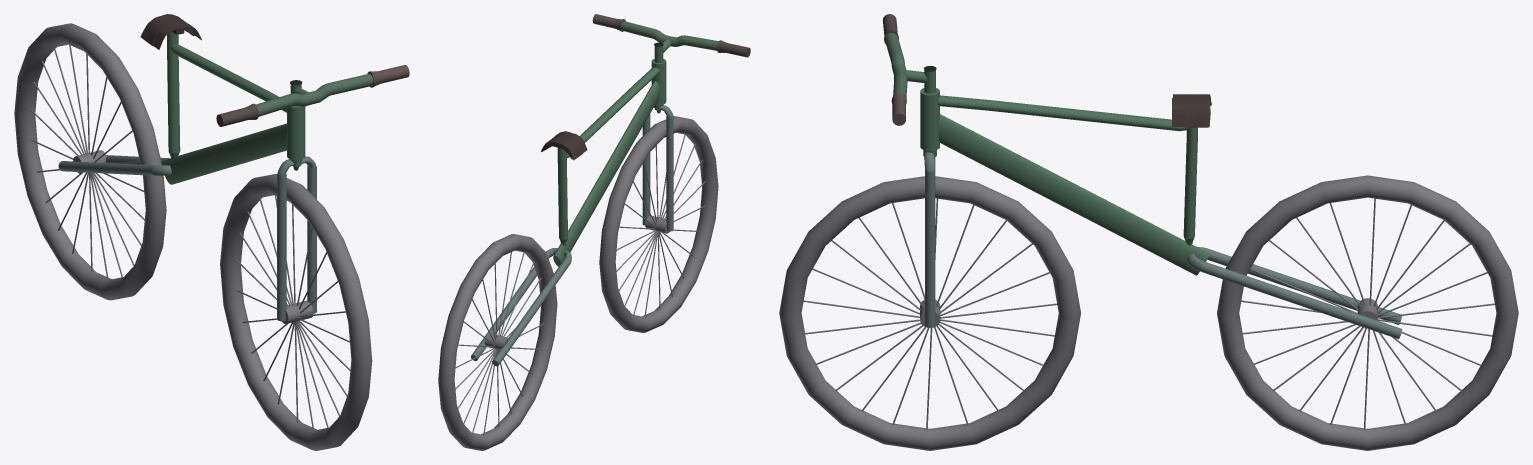
Rendered from Bicycle_2.fbx.
3 views of the same model, side by side, from view 1: azimuth 30°, elevation 25°; view 2: azimuth 150°, elevation 25°; view 3: azimuth 270°, elevation 25° (orthographic). The views are drawn at different scales.
Parts seen in each view (by area): view 1: Bicycle; view 2: Bicycle; view 3: Bicycle.
Boxes of the visible parts, left/top/right/bottom form: Bicycle: left=14, top=14, right=409, bottom=450; Bicycle: left=438, top=14, right=750, bottom=450; Bicycle: left=779, top=14, right=1518, bottom=450.
Bounding box in the file's own units: 1.68 × 3.07 × 5.29.
